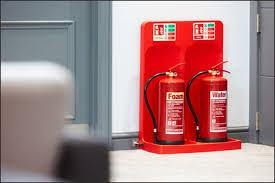floor-kept: (188, 61, 232, 143), (143, 63, 186, 146)
